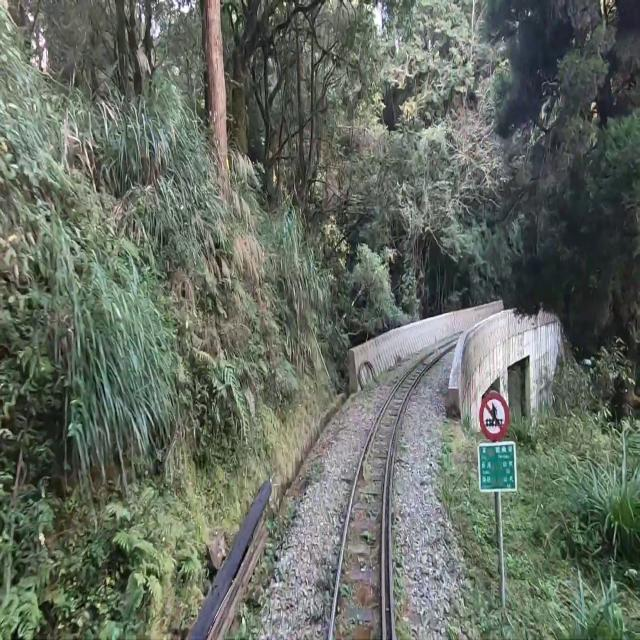rail-track: (332, 347, 445, 639)
